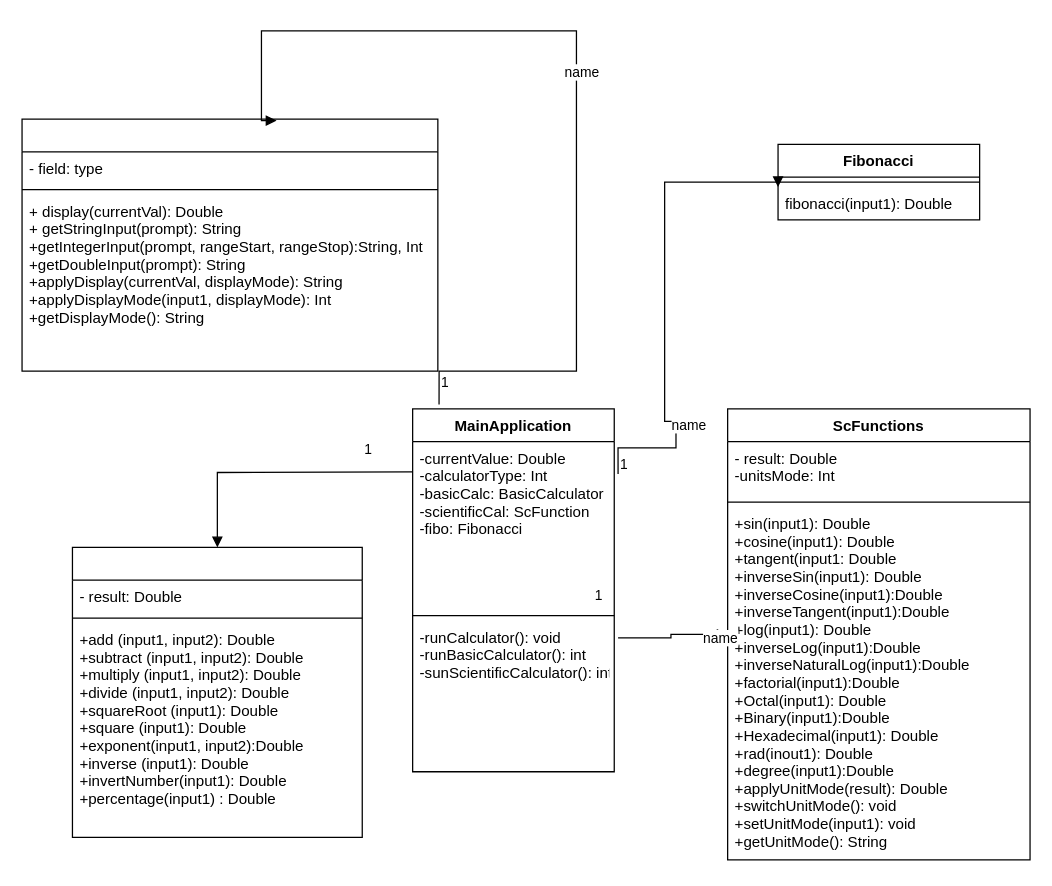
Image size: 1052x886. Some labels were removed from this diagram. Here are the shapes that lost their labels. From the top down, the box of each, then its label:
(21, 118, 438, 371): Console
(71, 546, 362, 837): BasicCalculator
